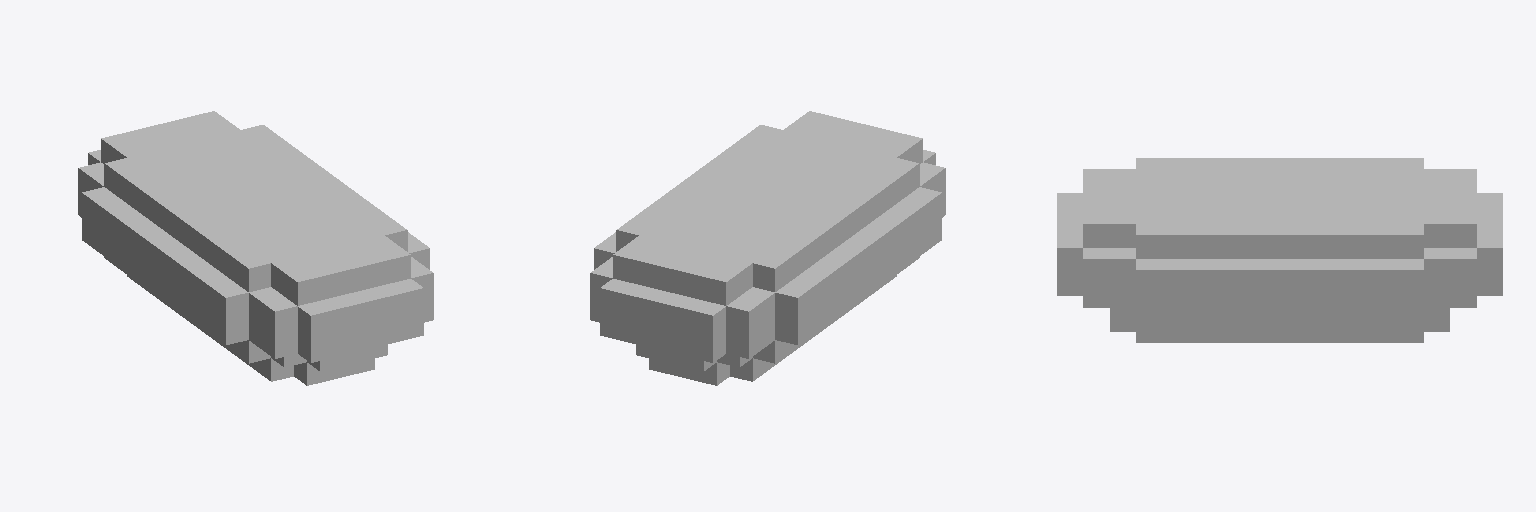
The model's file is Architeture1-15.obj.
3 views of the same model, side by side, from view 1: azimuth 30°, elevation 25°; view 2: azimuth 150°, elevation 25°; view 3: azimuth 270°, elevation 25° (orthographic).
Parts seen in each view (by area): view 1: object 1; view 2: object 1; view 3: object 1.
Boxes of the visible parts, box(x1,y1,x2,y2) form: object 1: box(78, 111, 433, 385); object 1: box(590, 111, 945, 385); object 1: box(1057, 158, 1502, 342).
Bounding box in the file's own units: 0.9 × 0.5 × 1.7.